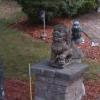Statue: (31, 15, 88, 72)
